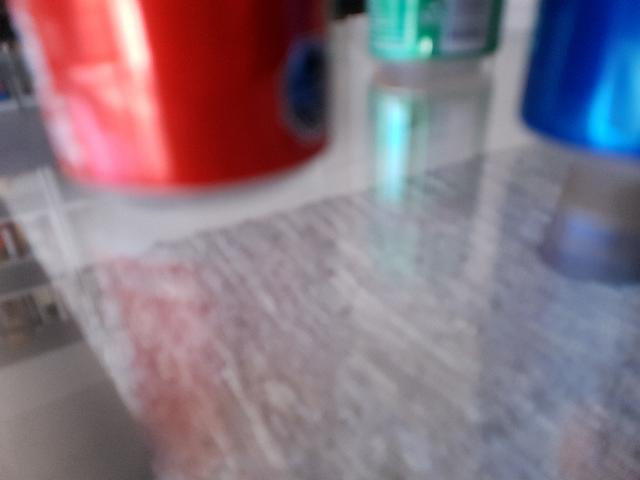coke: (1, 0, 333, 206)
pepsi: (524, 0, 640, 174)
sprite: (367, 0, 505, 82)
